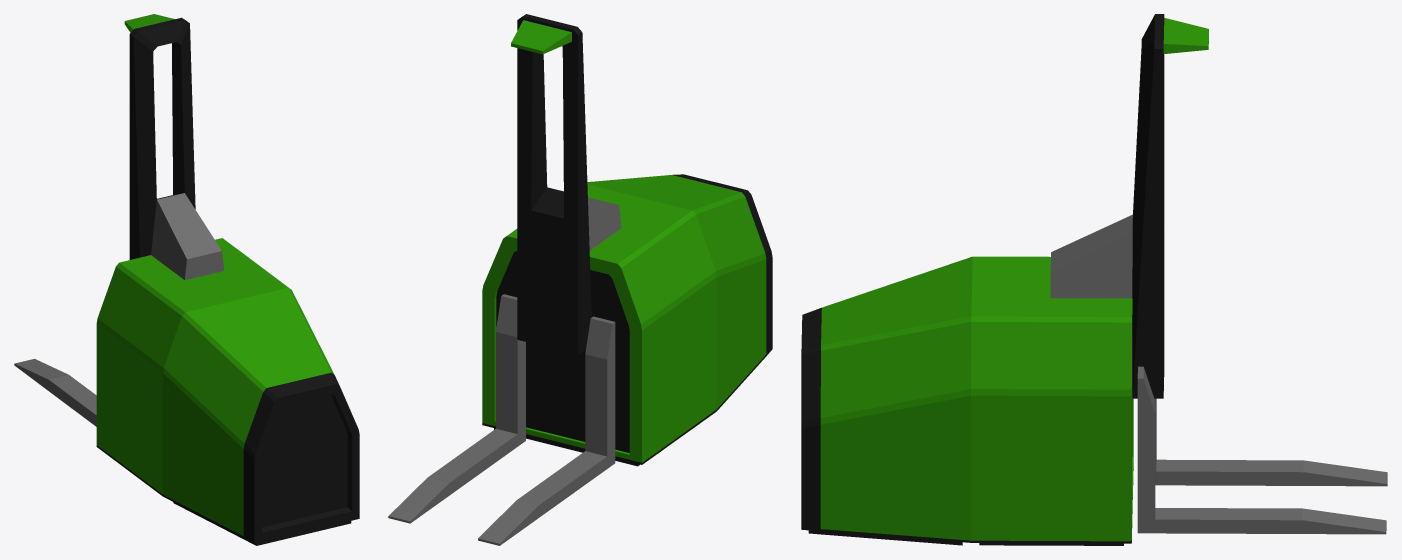
The model's file is forklift.glb.
3 views of the same model, side by side, from view 1: azimuth 30°, elevation 25°; view 2: azimuth 150°, elevation 25°; view 3: azimuth 270°, elevation 25° (orthographic). The views are drawn at different scales.
Parts seen in each view (by area): view 1: Forklift.001; view 2: Forklift.001; view 3: Forklift.001.
Boxes of the visible parts, box(x1,y1,x2,y2) form: Forklift.001: box(14, 14, 359, 545); Forklift.001: box(388, 14, 772, 545); Forklift.001: box(801, 14, 1387, 545).
Bounding box in the file's own units: 1.12 × 2.9 × 3.21.
